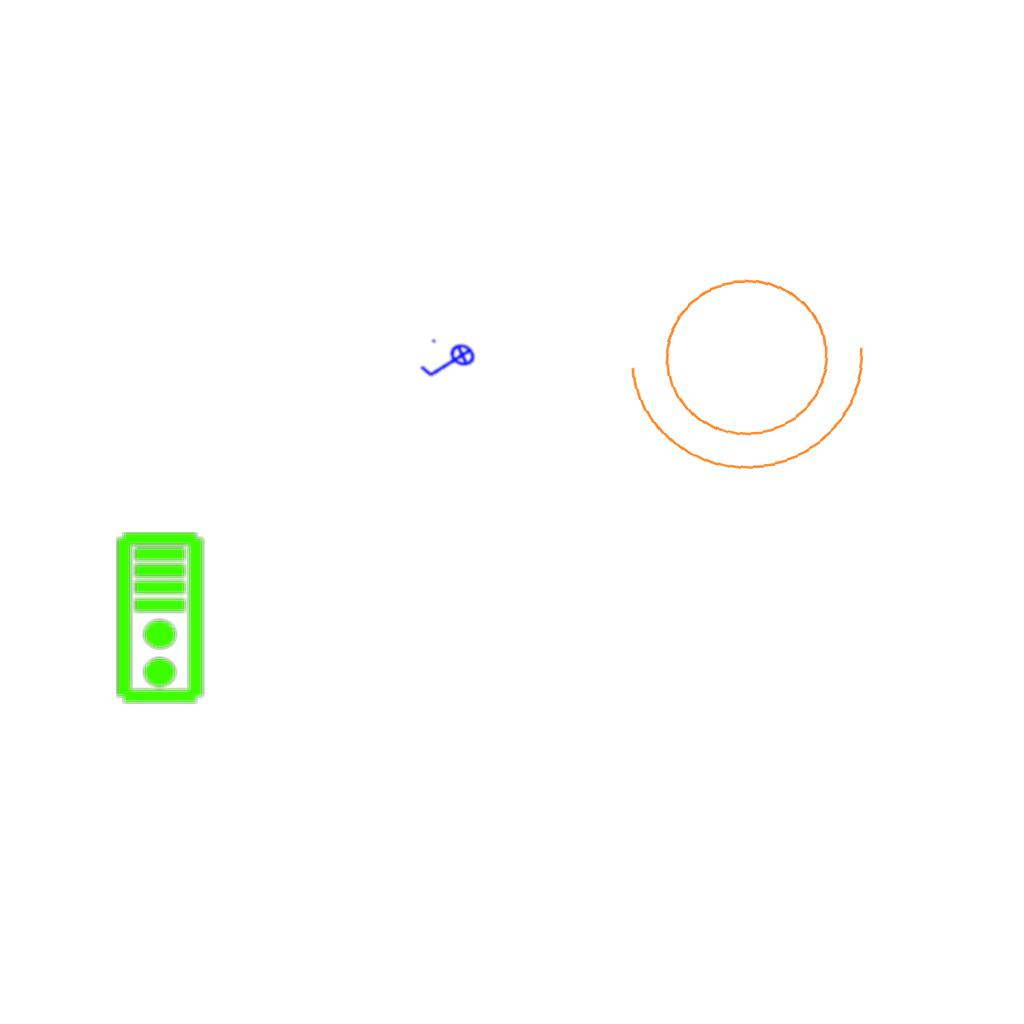Ausschalter_beleuchtet: (413, 329, 485, 397)
Gegensprechanlage_mit_Video: (114, 530, 209, 706)
Scheinwerfer_fuer_Alarmbeleuchtung: (612, 242, 896, 491)
